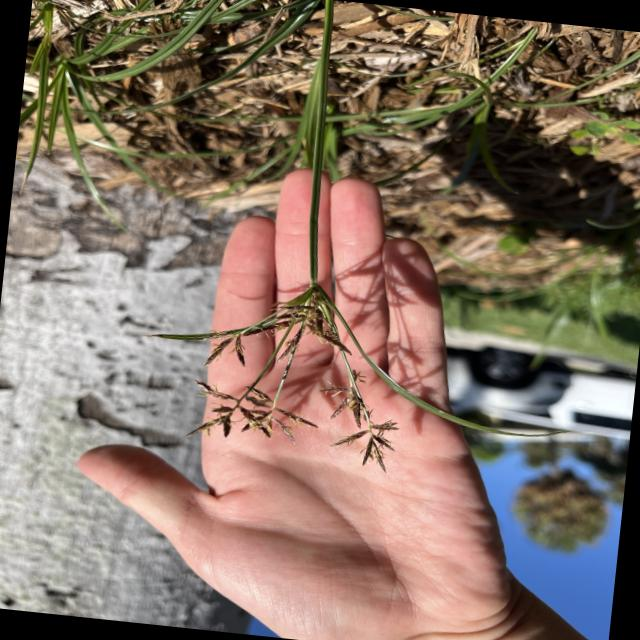cyperus: (160, 265, 426, 477)
